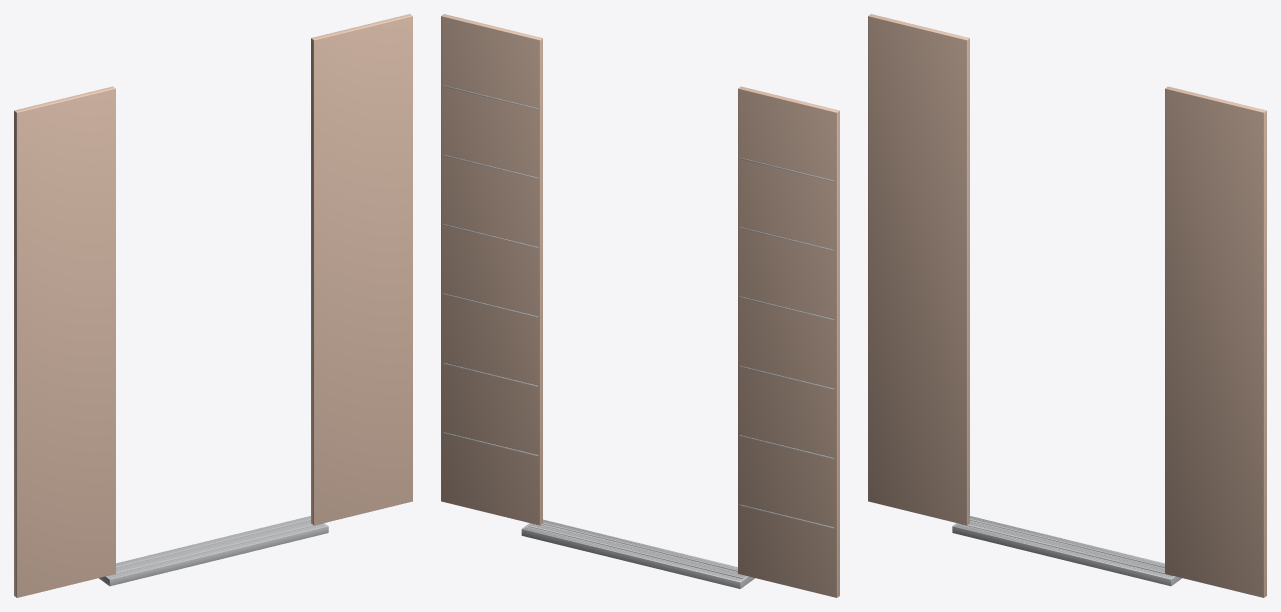
Rendered from cabin_door_TM025.glb.
3 views of the same model, side by side, from view 1: azimuth 30°, elevation 25°; view 2: azimuth 150°, elevation 25°; view 3: azimuth 330°, elevation 25° (orthographic).
Visible parts, largest first — view 1: Car_Door_L, Car_Door_R, Door_Sill; view 2: Car_Door_L, Car_Door_R, Door_Sill; view 3: Car_Door_L, Car_Door_R, Door_Sill.
Part boxes in pixels (x1,y1,x2,y2): Car_Door_L: [14, 86, 115, 597]; Car_Door_R: [311, 14, 412, 525]; Door_Sill: [98, 516, 328, 586]; Car_Door_L: [738, 86, 839, 597]; Car_Door_R: [441, 14, 542, 525]; Door_Sill: [521, 519, 754, 588]; Car_Door_L: [868, 14, 969, 525]; Car_Door_R: [1165, 86, 1266, 597]; Door_Sill: [952, 516, 1182, 586].
Size of the model in its own units: 1.81 by 2.15 by 0.12.
